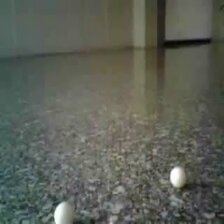w: (53, 201, 75, 224), (170, 165, 186, 190)
